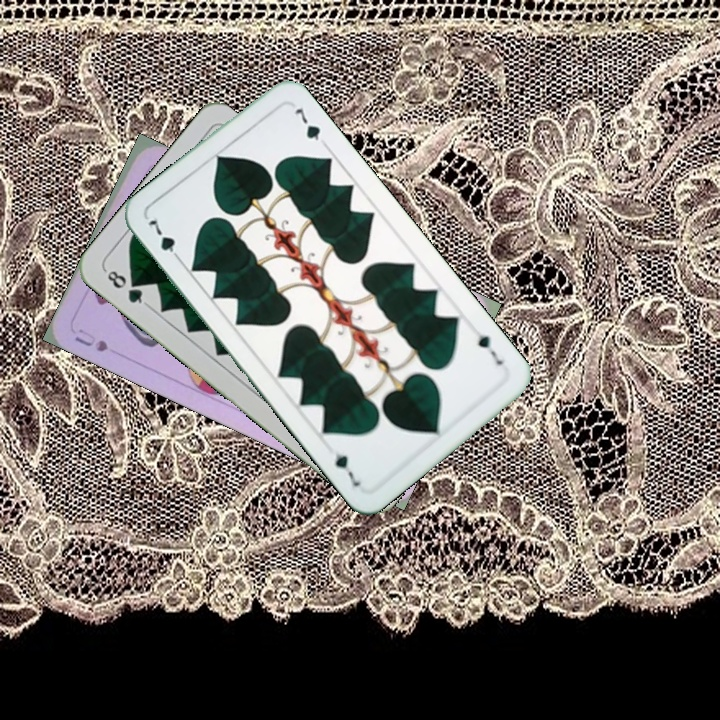G7: (143, 215, 185, 265), (473, 330, 506, 368)
G8: (101, 266, 150, 308)
SU: (70, 324, 111, 355)
